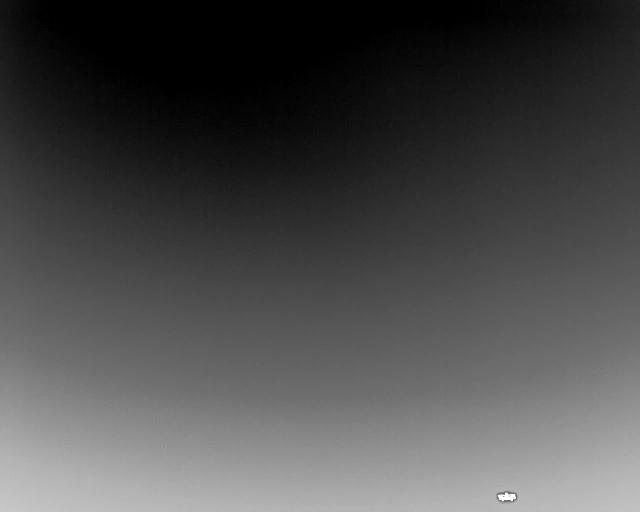fpv-drone: (496, 491, 517, 502)
